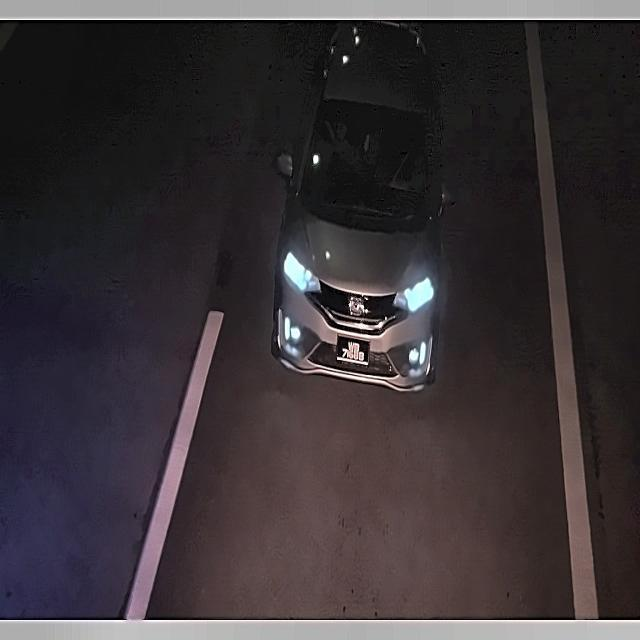car: (332, 333, 376, 365)
